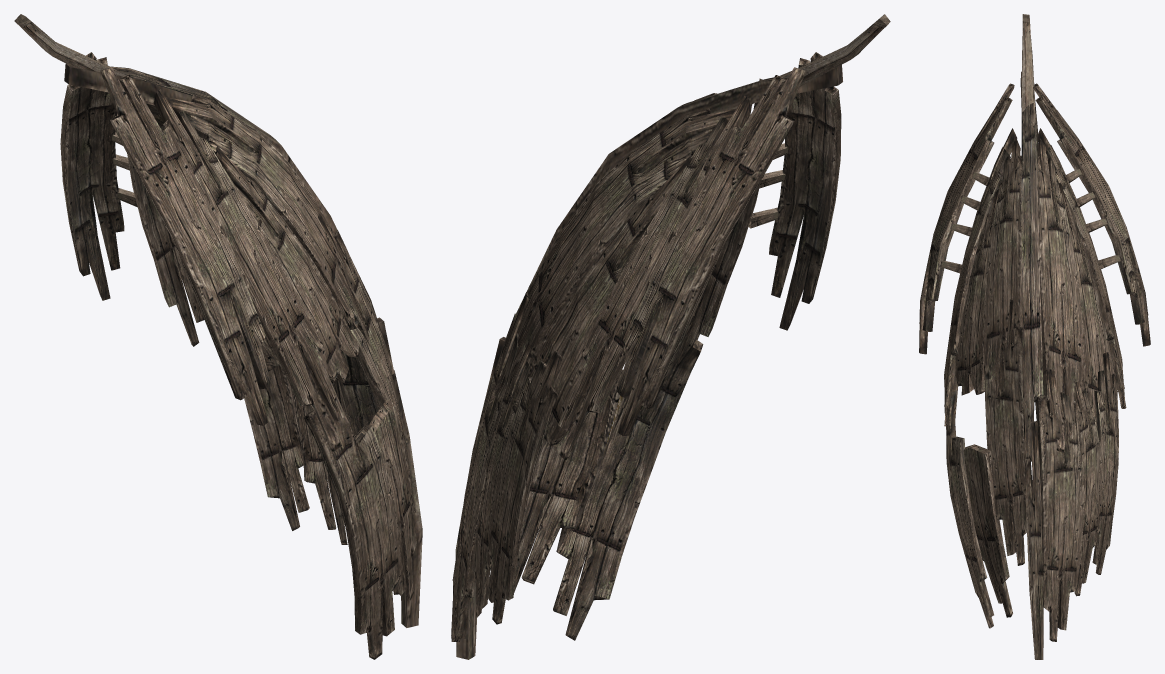
The model's file is d_sg_shouyou_chuan03_qt.FBX.
3 renders of one model, left to right at view 1: azimuth 30°, elevation 25°; view 2: azimuth 150°, elevation 25°; view 3: azimuth 270°, elevation 25°, orthographic. The views are drawn at different scales.
Parts seen in each view (by area): view 1: d_sg_shouyou_chuan01_qt001; view 2: d_sg_shouyou_chuan01_qt001; view 3: d_sg_shouyou_chuan01_qt001.
Boxes of the visible parts, x1,y1,x2,y2 form: d_sg_shouyou_chuan01_qt001: (14,14,422,659); d_sg_shouyou_chuan01_qt001: (451,14,890,659); d_sg_shouyou_chuan01_qt001: (919,14,1150,659).
Size of the model in its own units: 5940 by 9819 by 4071.
